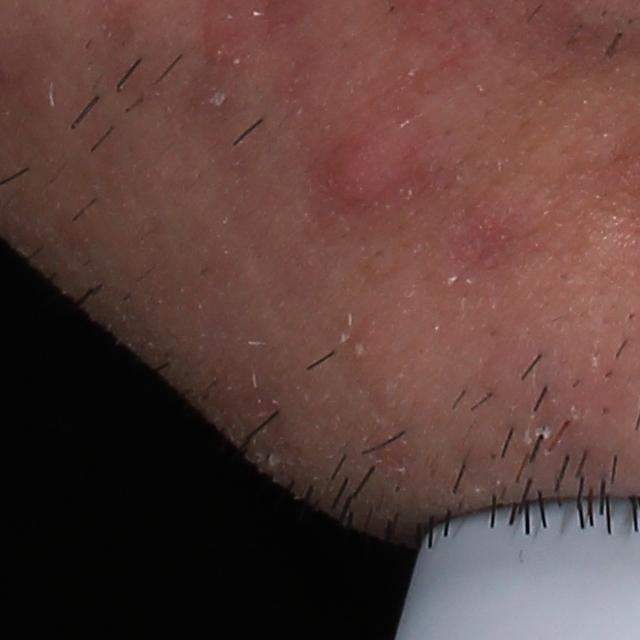papule: (311, 128, 415, 213)
